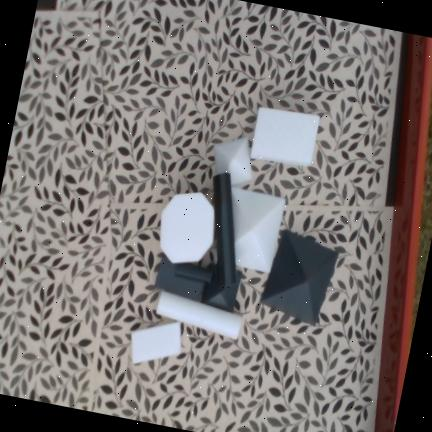Cilindro: (156, 290, 243, 340), (213, 173, 236, 288), (174, 264, 213, 284)
Paralelepipedo: (250, 107, 320, 167), (155, 253, 207, 302), (131, 321, 181, 364)
Piramide: (260, 230, 339, 325), (215, 186, 286, 274), (200, 263, 242, 312), (213, 137, 252, 186)
Prisma_hexagonal: (159, 193, 215, 264)
